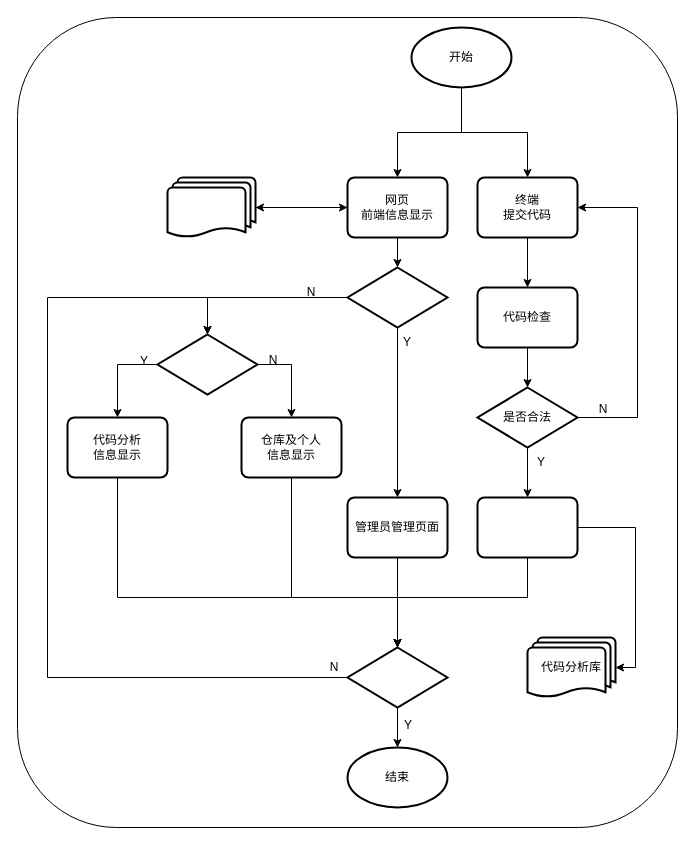
This 695x845 diagram has some shape labels left out. Here are the shapes that lost their labels. From the top down, the centre of each, then its label:
At point 211,207: "用户库".
At point 397,297: "admin用户？".
At point 207,364: "代码分析页？".
At point 527,527: "写入代码分析库".
At point 397,677: "是否退出".
